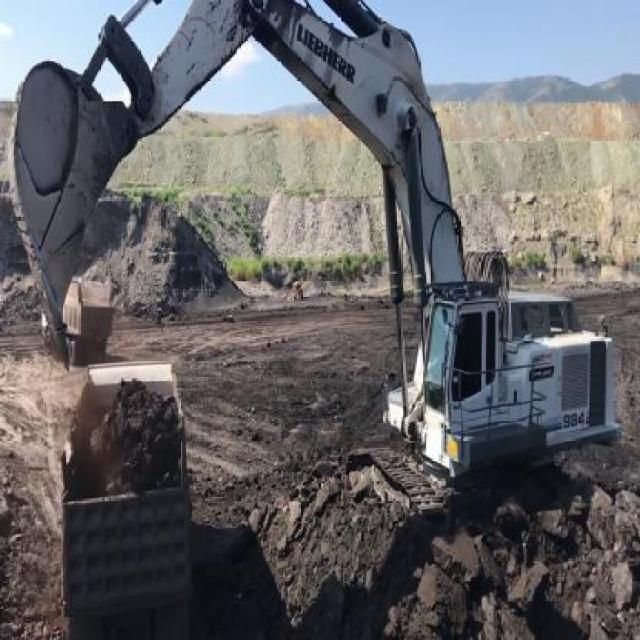Dump Truck: (57, 356, 192, 639), (38, 276, 114, 361)
Excavator: (7, 0, 622, 523)
